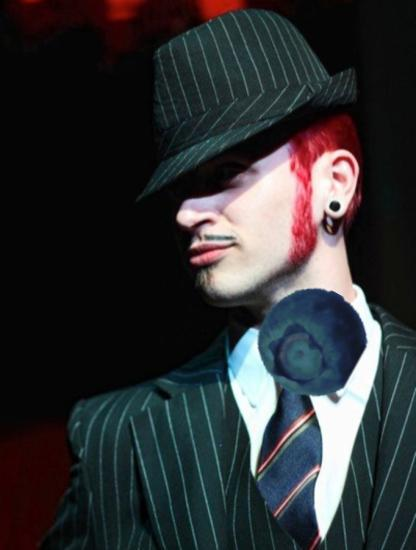Huckleberry: (257, 287, 366, 396)
